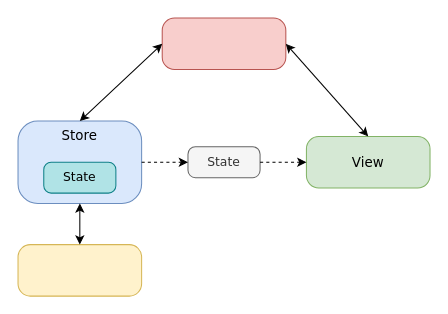
Some shapes in this 448 by 314 pixel diagram are drawn without their labels. The centre of each missing label's shape, as x and y in pixels:
Action: point (223, 43)
Handler: point (79, 270)
